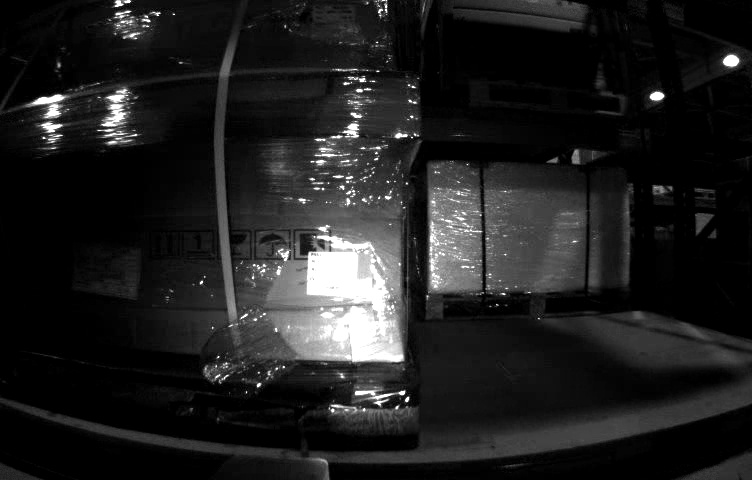True Barcode: (306, 250, 355, 295)
